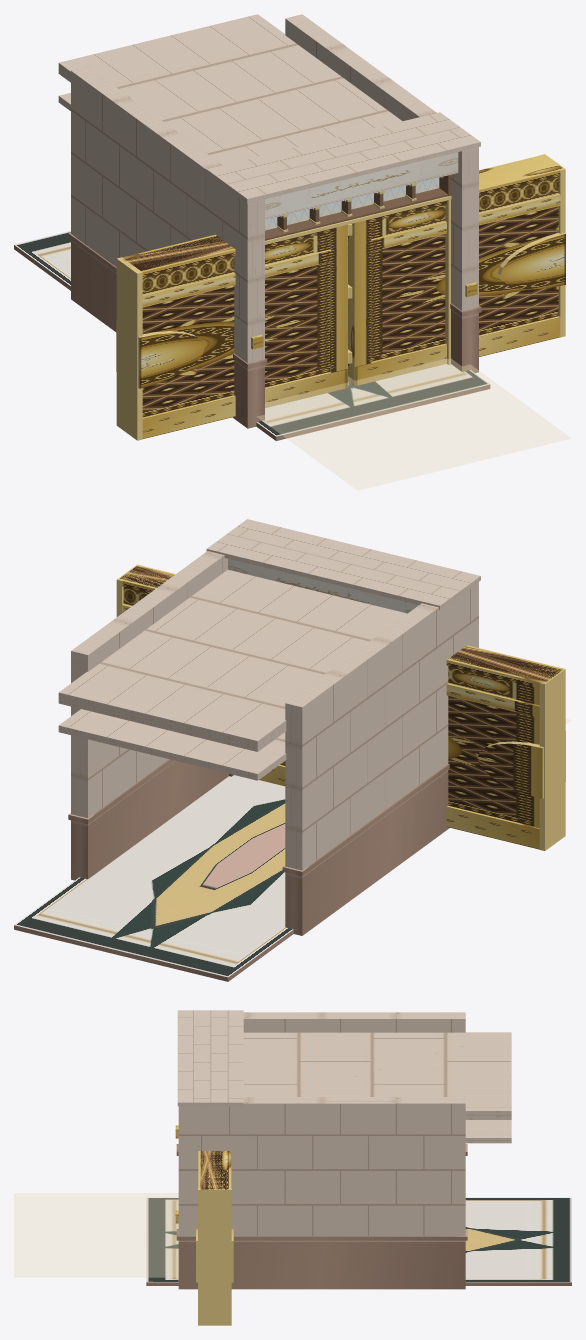
File: haram-doors-kit.glb
The picture shows the model from 3 angles, top to bottom: view 1: azimuth 30°, elevation 25°; view 2: azimuth 150°, elevation 25°; view 3: azimuth 270°, elevation 25°; orthographic projection. The views are drawn at different scales.
Parts seen in each view (by area): view 1: DoorPortalFrame, DoorLeafRight, DoorLeafLeft, DoorThresholdGlow; view 2: DoorPortalFrame, DoorLeafRight, DoorLeafLeft; view 3: DoorPortalFrame, DoorThresholdGlow, DoorLeafLeft.
Part boxes in pixels (<box>): DoorPortalFrame: <box>14,14,490,440</box>; DoorLeafRight: <box>116,224,348,440</box>; DoorLeafLeft: <box>348,154,565,385</box>; DoorThresholdGlow: <box>257,358,571,490</box>; DoorPortalFrame: <box>14,519,480,981</box>; DoorLeafRight: <box>446,645,565,850</box>; DoorLeafLeft: <box>116,564,285,786</box>; DoorPortalFrame: <box>146,1010,571,1289</box>; DoorThresholdGlow: <box>14,1193,178,1277</box>; DoorLeafLeft: <box>196,1151,233,1325</box>.
Size of the model in its own units: 2 by 1.03 by 2.78.
Materials: 8 (4 with a texture image).
